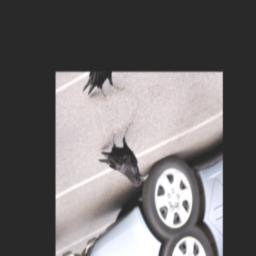Crow: (93, 120, 150, 205)
